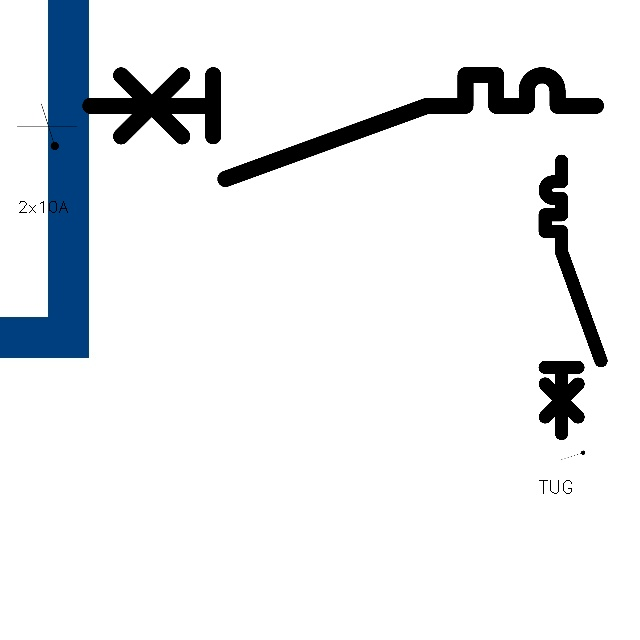interruptor_termomagnetico: (77, 62, 609, 192), (538, 154, 608, 441)
